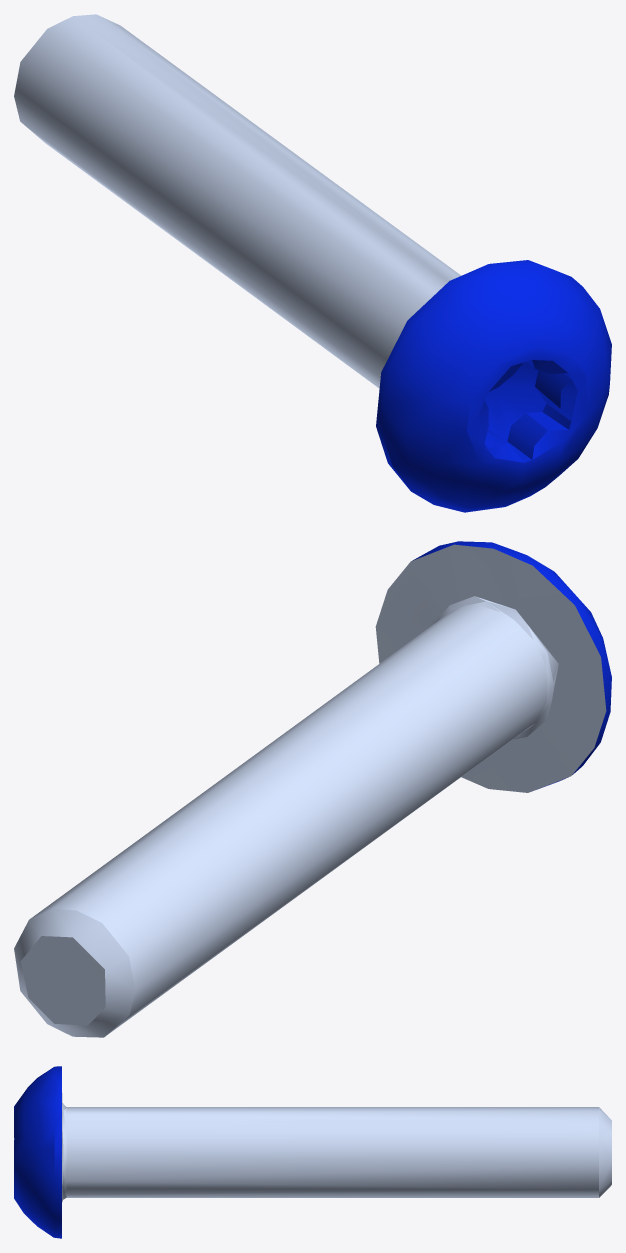
The model's file is Colored__8-32_x_1_000_Star_Drive_Screw__276-4996__1__001.glb.
The picture shows the model from 3 angles, top to bottom: view 1: azimuth 30°, elevation 25°; view 2: azimuth 150°, elevation 25°; view 3: azimuth 270°, elevation 25°; orthographic projection. The views are drawn at different scales.
Parts seen in each view (by area): view 1: Colored #8-32 x 1.000 Star Drive Screw (276-4996)(1).001; view 2: Colored #8-32 x 1.000 Star Drive Screw (276-4996)(1).001; view 3: Colored #8-32 x 1.000 Star Drive Screw (276-4996)(1).001.
Part boxes in pixels (<box>): Colored #8-32 x 1.000 Star Drive Screw (276-4996)(1).001: <box>14,14,611,512</box>; Colored #8-32 x 1.000 Star Drive Screw (276-4996)(1).001: <box>14,541,611,1037</box>; Colored #8-32 x 1.000 Star Drive Screw (276-4996)(1).001: <box>14,1066,611,1238</box>.
Size of the model in its own units: 0.3123 by 0.3131 by 1.09.
